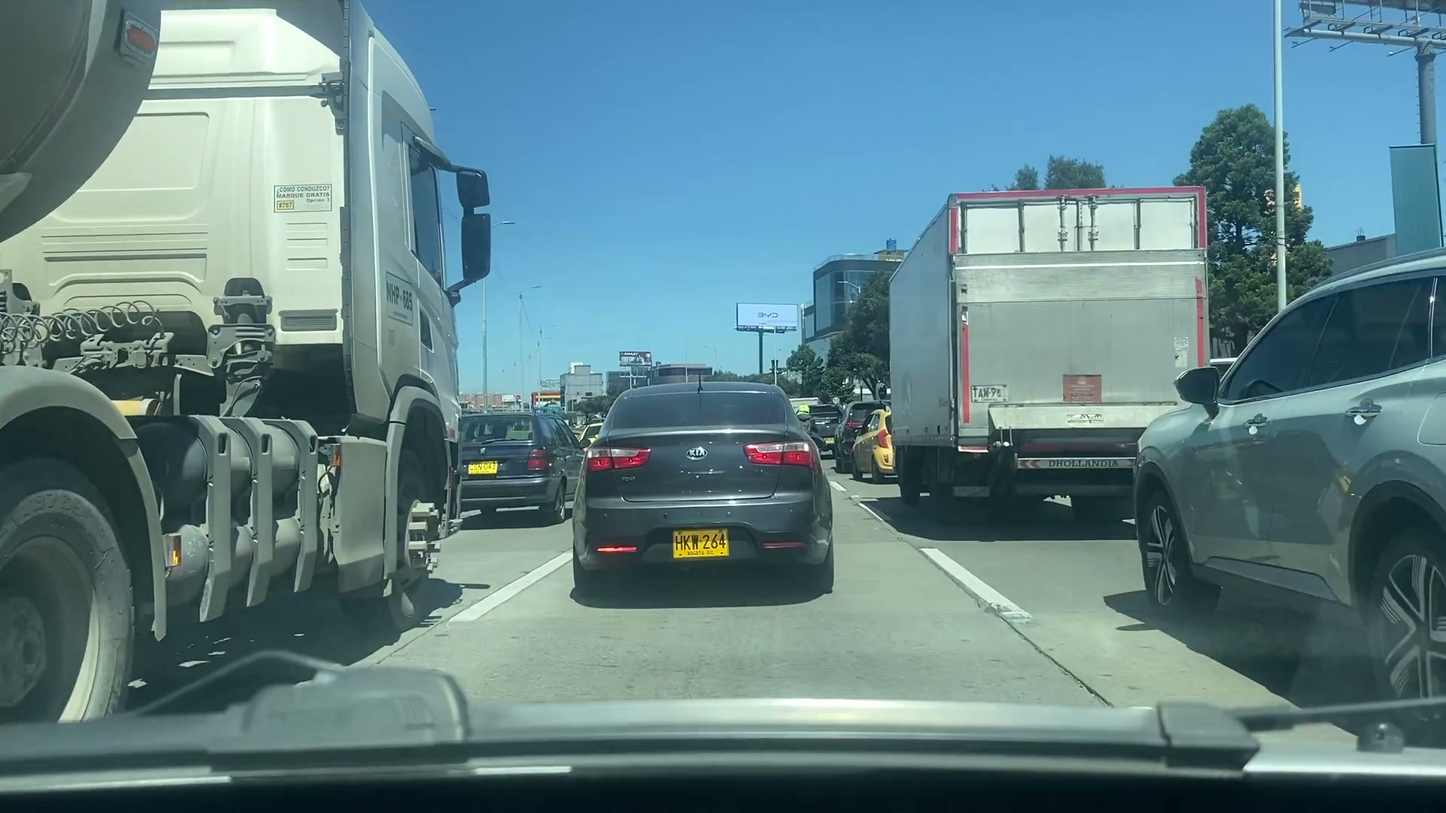car: (1134, 244, 1446, 716), (573, 379, 838, 595), (446, 399, 586, 524), (842, 403, 913, 480), (828, 401, 878, 469)
truck: (0, 0, 496, 699), (889, 183, 1216, 505)
